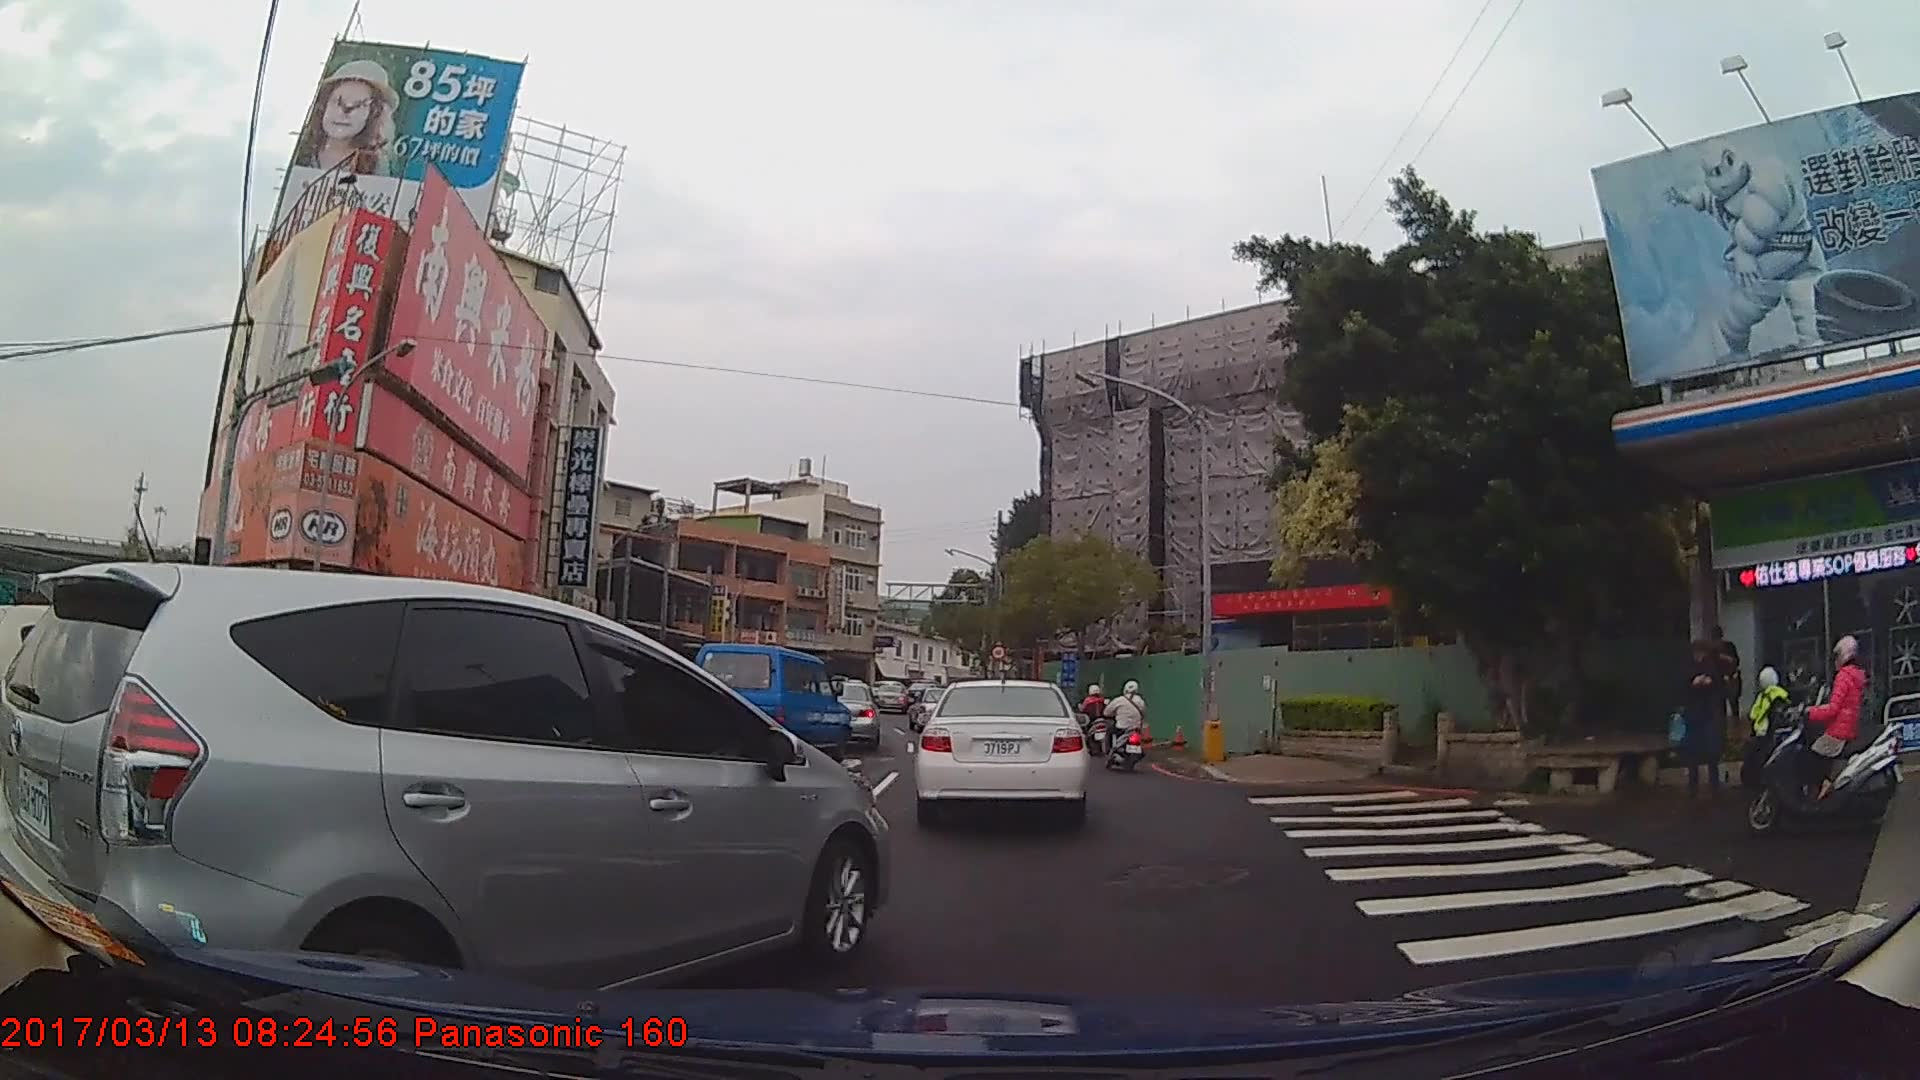pedestrian: (1686, 640, 1736, 801), (1697, 621, 1743, 751)
rider: (1745, 632, 1904, 832), (1106, 678, 1151, 770), (1081, 681, 1115, 756)
vehicle: (0, 561, 893, 1038), (911, 675, 1091, 829), (687, 639, 851, 760), (805, 680, 882, 753)
